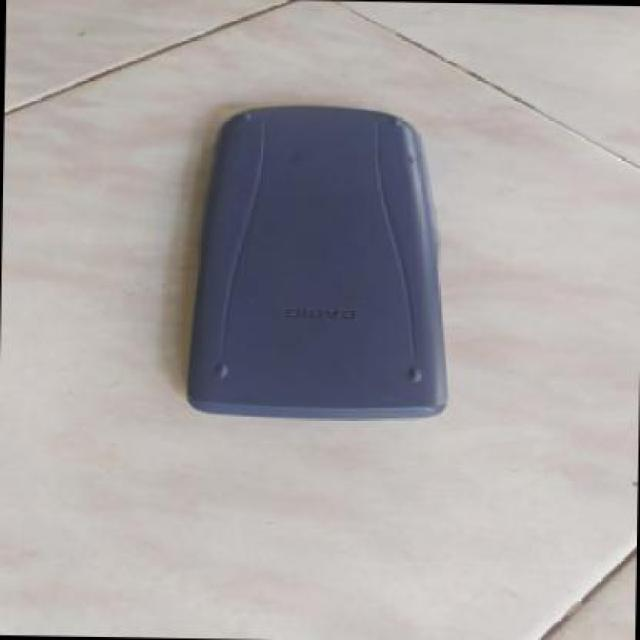Calculator: (171, 91, 475, 437)
